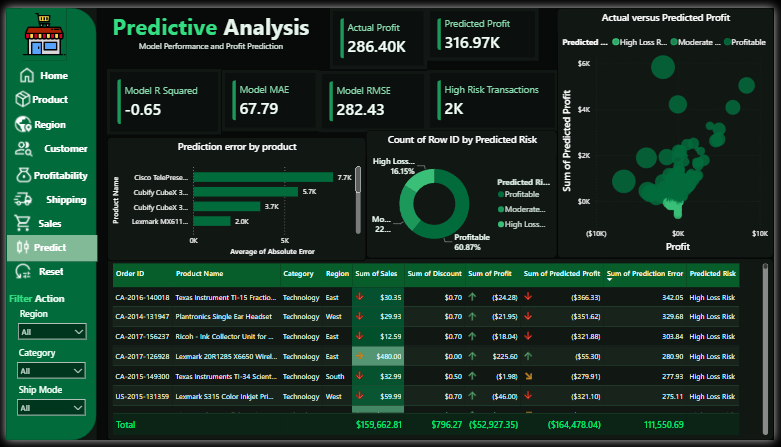

The page's visual inventory and layout, read from the dashboard file:
{"tool":"powerbi","page":{"name":"Predictive Analytics (Regression)","canvas":[1280,720],"ordinal":8},"visuals":[{"type":"textbox","box":[161.7,0,360,86.7],"z":0},{"type":"shape","box":[0,0,150.6,720.5],"z":1000},{"type":"cardVisual","fields":{"Data":["_Measures.Model R Squared"]},"box":[168.5,102.2,190.1,109.4],"z":2000},{"type":"cardVisual","fields":{"Data":["_Measures.Model MAE"]},"box":[360,103.7,161.7,101.7],"z":3000},{"type":"cardVisual","fields":{"Data":["_Measures.Model RMSE"]},"box":[521.1,104.6,180,101.7],"z":4000},{"type":"cardVisual","fields":{"Data":["_Measures.Actual Profit"]},"box":[539.7,0,161.7,101.7],"z":5000},{"type":"cardVisual","fields":{"Data":["_Measures.Predicted Profit"]},"box":[701.6,0,185.5,87.7],"z":6000},{"type":"cardVisual","fields":{"Data":["_Measures.High Risk Transactions"]},"box":[701.6,102.9,218.3,101.7],"z":7000},{"type":"textbox","box":[0,468,160.9,35.4],"z":8000},{"type":"slicer","fields":{"Values":["DimLocation.Region"]},"box":[10.3,493.1,134.3,65],"z":9000},{"type":"slicer","fields":{"Values":["DimProduct.Category"]},"box":[8.9,558.1,134.3,62],"z":10000},{"type":"slicer","fields":{"Values":["DimShipMode.Ship Mode"]},"box":[8.9,620.1,134.3,59.1],"z":11000},{"type":"actionButton","title":"Home","box":[10.3,212.6,129.9,39.9],"z":12000},{"type":"actionButton","box":[8.9,417.8,134.3,39.9],"z":13000},{"type":"actionButton","title":"Home","box":[8.9,172.7,129.9,39.9],"z":14000},{"type":"actionButton","title":"Home","box":[8.9,131.4,129.9,39.9],"z":15000},{"type":"actionButton","title":"Home","box":[10.3,258.4,129.9,39.9],"z":16000},{"type":"actionButton","title":"Home","box":[8.9,298.2,129.9,39.9],"z":17000},{"type":"actionButton","title":"Home","box":[8.9,338.1,129.9,39.9],"z":18000},{"type":"shape","box":[1.5,377.9,150.6,44.3],"z":19000},{"type":"actionButton","title":"Home","box":[14.8,91.5,129.9,39.9],"z":20000},{"type":"actionButton","title":"Home","box":[8.9,377.9,129.9,39.9],"z":21000},{"type":"scatterChart","title":"Actual versus Predicted Profit","fields":{"X":["Profit_Predictions.Profit"],"Y":["Sum(Profit_Predictions.Predicted Profit)"],"Size":["Sum(Profit_Predictions.Absolute Error)"],"Series":["Profit_Predictions.Predicted Risk"]},"box":[919.1,0,360.9,416.5],"z":22000},{"type":"donutChart","fields":{"Category":["Profit_Predictions.Predicted Risk"],"Y":["CountNonNull(Profit_Predictions.Row ID)"]},"box":[600.4,204.1,318.7,214.2],"z":23000},{"type":"tableEx","fields":{"Values":["Profit_Predictions.Order ID","Profit_Predictions.Product Name","Profit_Predictions.Category","Profit_Predictions.Region","Sum(Profit_Predictions.Sales)","Sum(Profit_Predictions.Discount)","Sum(Profit_Predictions.Profit)","Sum(Profit_Predictions.Predicted Profit)","Sum(Profit_Predictions.Prediction Error)","Profit_Predictions.Predicted Risk"]},"box":[168.9,415.8,1111.4,303.6],"z":24000},{"type":"clusteredBarChart","title":"Prediction error by product","fields":{"Category":["Profit_Predictions.Product Name"],"Y":["Avg(Profit_Predictions.Absolute Error)"]},"box":[168.6,214.2,431.7,207.4],"z":25000},{"type":"image","box":[26.6,0,73.8,87.1],"z":26000}]}

Visuals, with their boxes in screenshot pixels (x1, y1, x2, y2), scaled from the page's 1280x720 canvas onto the 781x447 screenshot:
textbox: [99, 0, 318, 54]
shape: [0, 0, 92, 446]
cardVisual - _Measures.Model R Squared: [103, 63, 219, 131]
cardVisual - _Measures.Model MAE: [220, 64, 318, 128]
cardVisual - _Measures.Model RMSE: [318, 65, 428, 128]
cardVisual - _Measures.Actual Profit: [329, 0, 428, 63]
cardVisual - _Measures.Predicted Profit: [428, 0, 541, 54]
cardVisual - _Measures.High Risk Transactions: [428, 64, 561, 127]
textbox: [0, 291, 98, 313]
slicer - DimLocation.Region: [6, 306, 88, 346]
slicer - DimProduct.Category: [5, 346, 87, 385]
slicer - DimShipMode.Ship Mode: [5, 385, 87, 422]
"Home" actionButton: [6, 132, 86, 157]
actionButton: [5, 259, 87, 284]
"Home" actionButton: [5, 107, 85, 132]
"Home" actionButton: [5, 82, 85, 106]
"Home" actionButton: [6, 160, 86, 185]
"Home" actionButton: [5, 185, 85, 210]
"Home" actionButton: [5, 210, 85, 235]
shape: [1, 235, 93, 262]
"Home" actionButton: [9, 57, 88, 82]
"Home" actionButton: [5, 235, 85, 259]
"Actual versus Predicted Profit" scatterChart: [561, 0, 780, 259]
donutChart - Profit_Predictions.Predicted Risk x CountNonNull(Profit_Predictions.Row ID): [366, 127, 561, 260]
tableEx - Profit_Predictions.Order ID x Profit_Predictions.Product Name: [103, 258, 780, 446]
"Prediction error by product" clusteredBarChart: [103, 133, 366, 262]
image: [16, 0, 61, 54]
